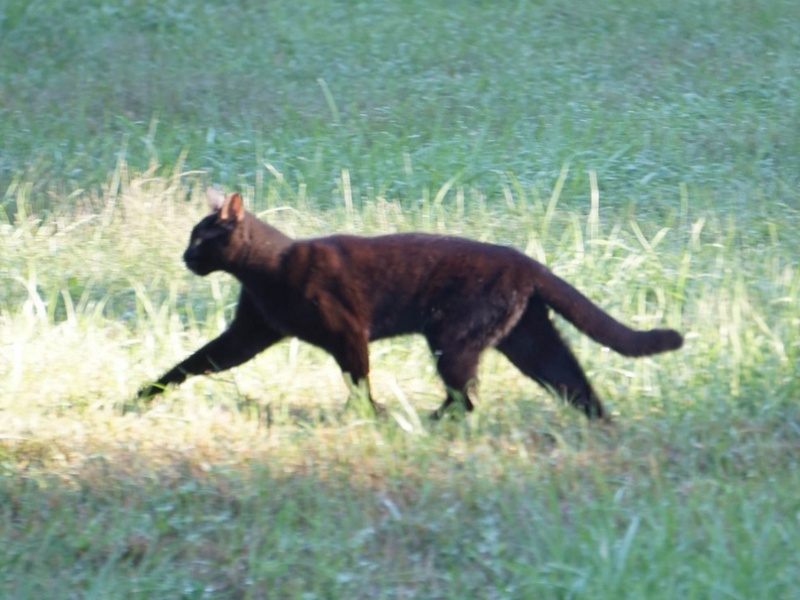cat: (112, 190, 689, 419)
